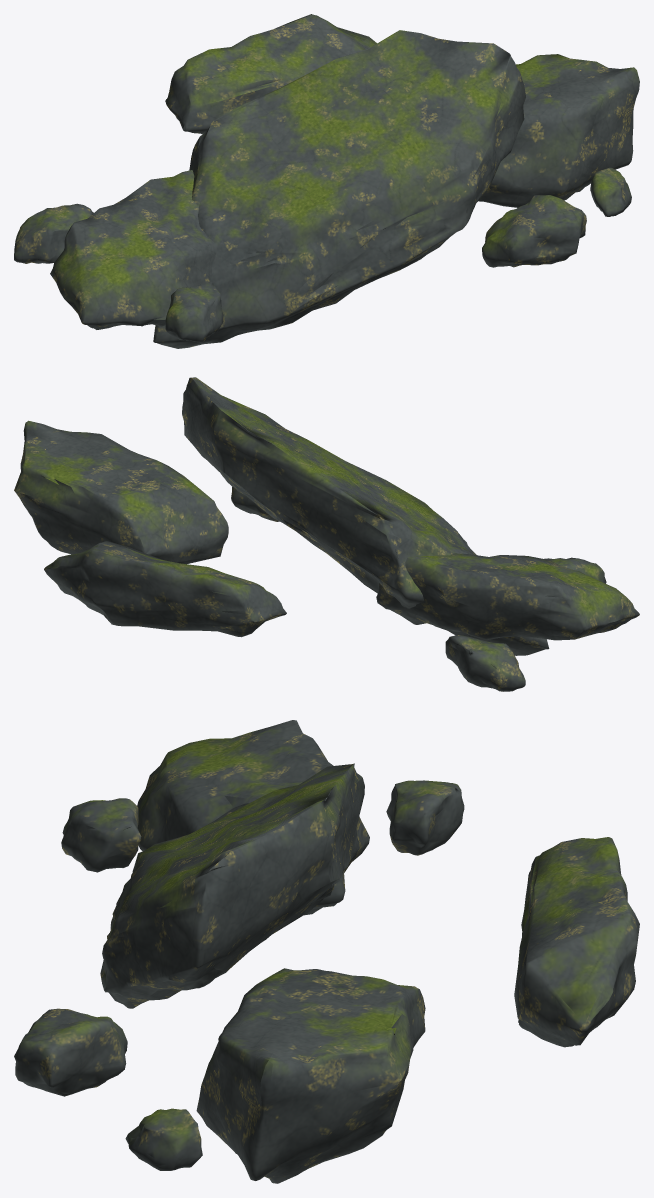
File: bedrock.glb
3 views of the same model, one above another, from view 1: azimuth 30°, elevation 25°; view 2: azimuth 150°, elevation 25°; view 3: azimuth 270°, elevation 25° (orthographic). The views are drawn at different scales.
Visible parts, largest first — view 1: Low connected bedrock; view 2: Low connected bedrock; view 3: Low connected bedrock.
Part boxes in pixels (x1,y1,x2,y2): Low connected bedrock: (14, 14, 639, 348); Low connected bedrock: (14, 377, 639, 691); Low connected bedrock: (14, 720, 639, 1183).
Bounding box in the file's own units: 4.93 × 1.76 × 3.17.
1 material, 1 textured.
